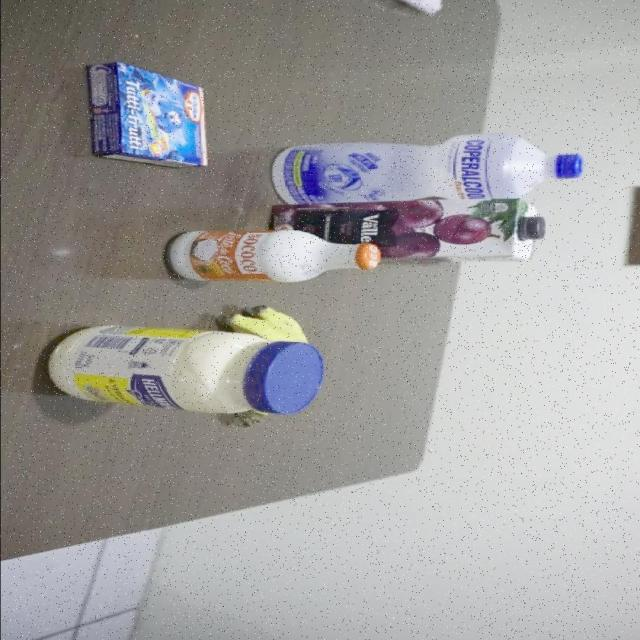AlcoholBottle: (272, 133, 584, 205)
Banana: (215, 304, 315, 344)
CoconutMilk: (164, 228, 381, 284)
Gelatine: (85, 62, 208, 170)
Mayonnaise: (44, 323, 324, 416)
